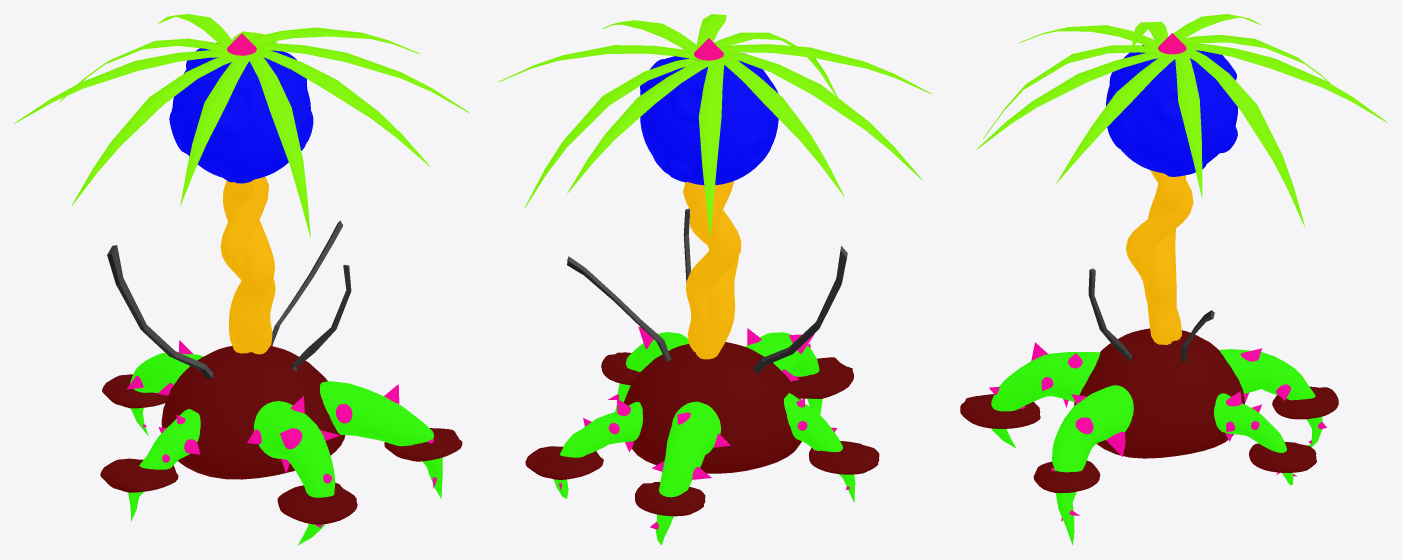
Rendered from Plant_01_ranke_state03.gltf.
The picture shows the model from 3 angles, left to right: view 1: azimuth 30°, elevation 25°; view 2: azimuth 150°, elevation 25°; view 3: azimuth 270°, elevation 25°; orthographic projection. The views are drawn at different scales.
Parts seen in each view (by area): view 1: NurbsPath.002; view 2: NurbsPath.002; view 3: NurbsPath.002.
Part boxes in pixels (x1,y1,x2,y2): NurbsPath.002: (14, 14, 469, 545); NurbsPath.002: (498, 14, 931, 545); NurbsPath.002: (960, 14, 1387, 545).
Size of the model in its own units: 4.99 by 5.73 by 5.
